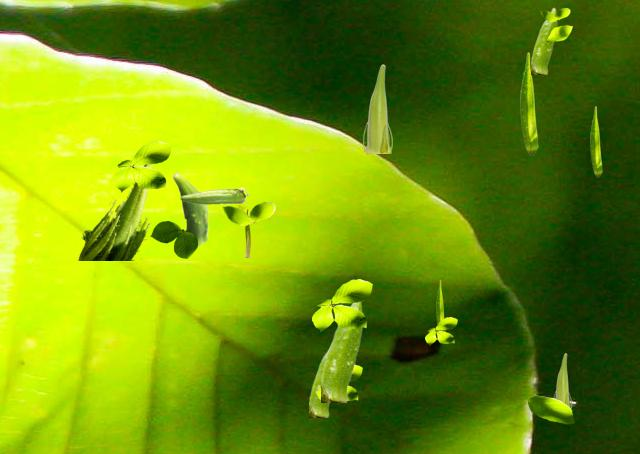okra: (77, 165, 153, 259), (321, 302, 362, 401), (172, 172, 208, 247), (362, 64, 391, 152), (520, 52, 537, 154), (531, 7, 556, 73), (309, 348, 330, 416), (180, 187, 248, 203), (553, 353, 570, 406), (590, 106, 601, 176), (436, 280, 444, 324), (245, 209, 249, 256)
